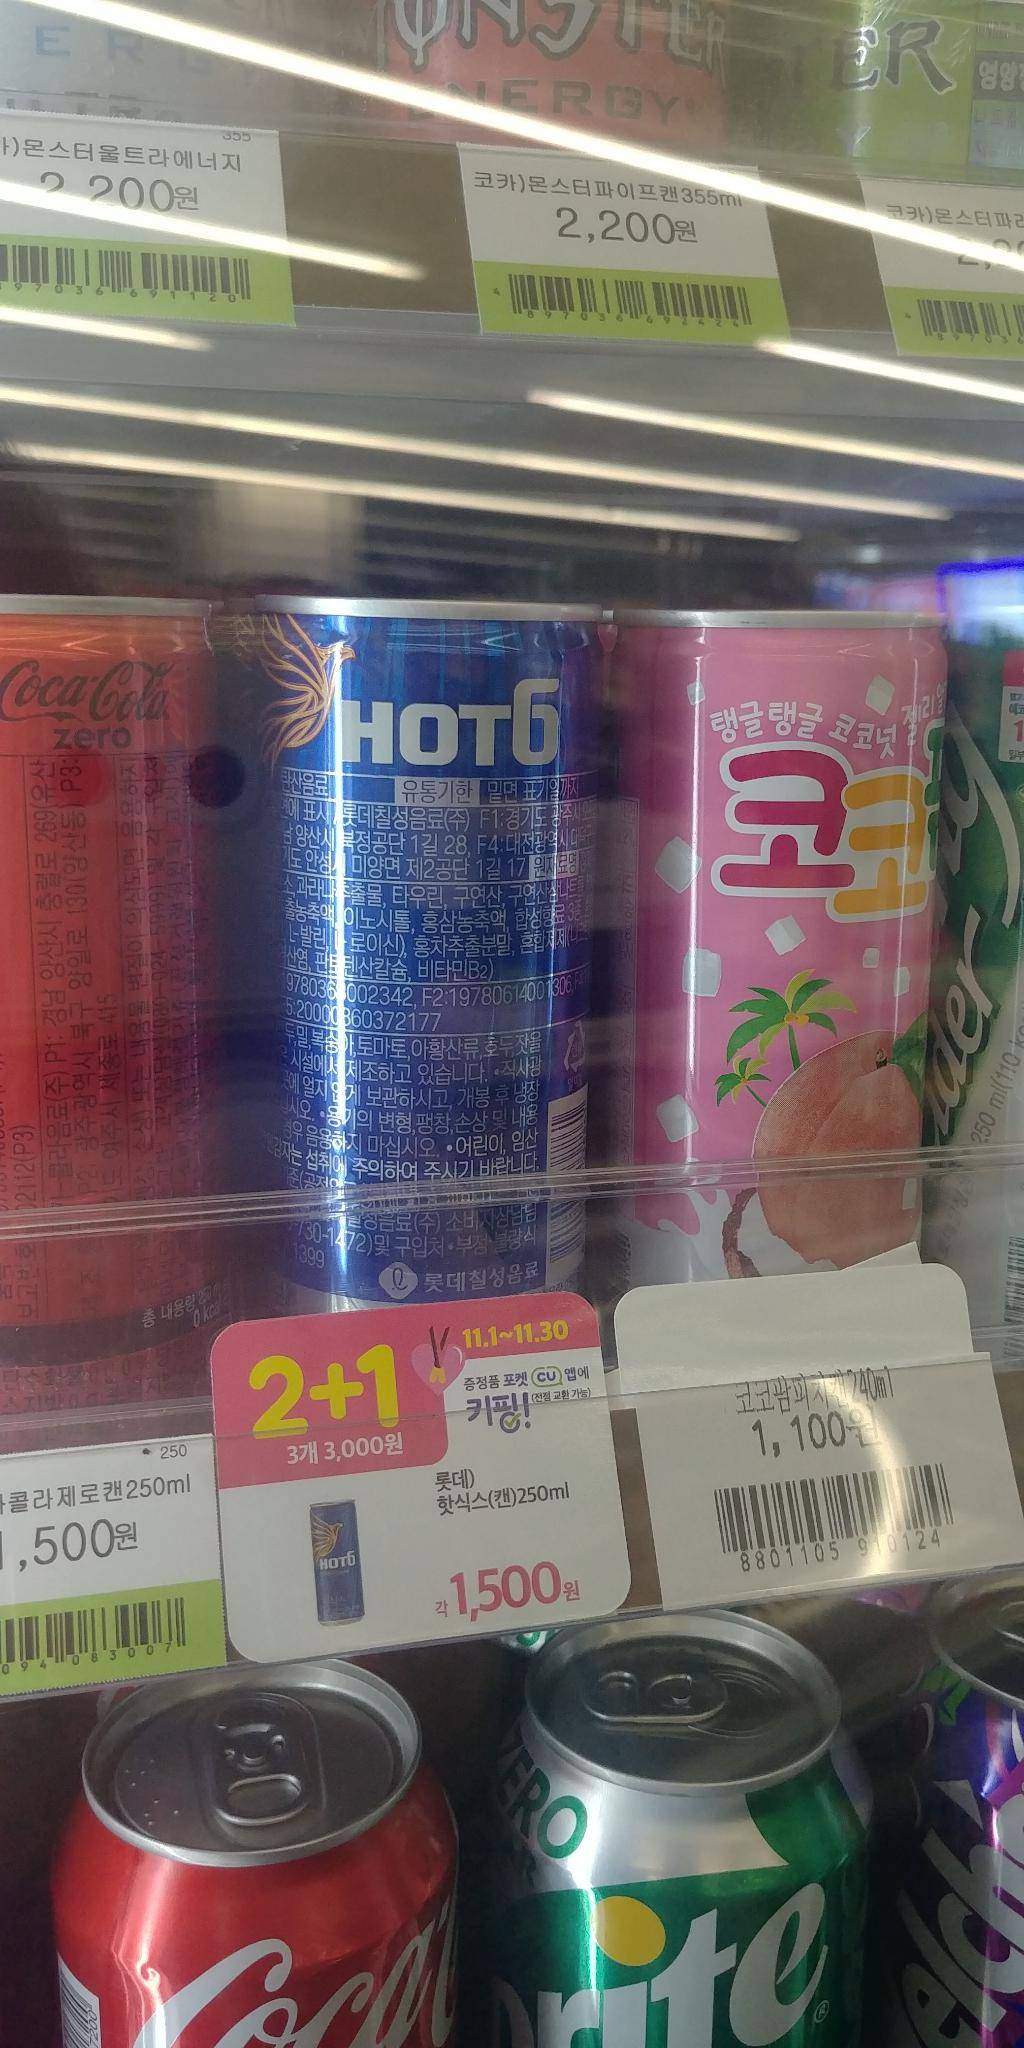hotsix_org: (256, 552, 637, 1384)
